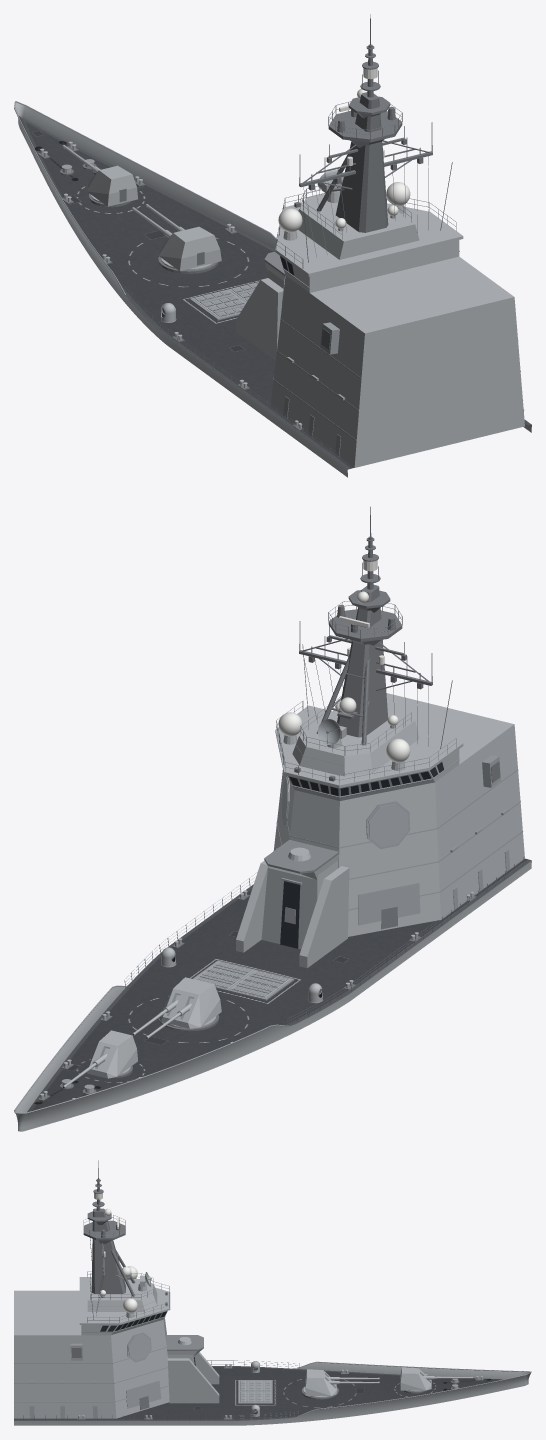
File: destroyer_v13.glb
The picture shows the model from 3 angles, top to bottom: view 1: azimuth 30°, elevation 25°; view 2: azimuth 150°, elevation 25°; view 3: azimuth 270°, elevation 25°; orthographic projection. The views are drawn at different scales.
Visible parts, largest first — view 1: Deckhouse_Hull_Grey, Deck_Painted, Bridge_Hull_Grey, Mast_Mast_Dark, Hull_Hull_Grey_2S_smooth, DeckGunTurretGeo_Hull_Grey, FrontGunTurretGeo_Hull_Grey, Deckhouse_Seam_Grey, Radomes_Radome_White_smooth, Railings_Mast_Dark, Hull_Seam_Grey, Lifelines_Mast_Dark; view 2: Deckhouse_Hull_Grey, Deck_Painted, Bridge_Hull_Grey, Mast_Mast_Dark, Hull_Hull_Grey_2S_smooth, Deckhouse_Seam_Grey, DeckGunTurretGeo_Hull_Grey, FrontGunTurretGeo_Hull_Grey, SPY_Panels_SPY_Panel, Radomes_Radome_White_smooth, Railings_Mast_Dark, Deckhouse_Deck_Grey (+4 smaller); view 3: Deckhouse_Hull_Grey, Deck_Painted, Hull_Hull_Grey_2S_smooth, Bridge_Hull_Grey, Mast_Mast_Dark, Deckhouse_Seam_Grey, DeckGunTurretGeo_Hull_Grey, Hull_Seam_Grey, FrontGunTurretGeo_Hull_Grey, Railings_Mast_Dark, Deckhouse_Deck_Grey, SPY_Panels_SPY_Panel (+3 smaller).
Boxes of the visible parts, x1,y1,x2,y2 form: Deckhouse_Hull_Grey: [236, 256, 524, 467]; Deck_Painted: [18, 115, 531, 469]; Bridge_Hull_Grey: [275, 193, 463, 292]; Mast_Mast_Dark: [299, 14, 452, 262]; Hull_Hull_Grey_2S_smooth: [15, 102, 531, 477]; DeckGunTurretGeo_Hull_Grey: [159, 226, 221, 271]; FrontGunTurretGeo_Hull_Grey: [86, 165, 137, 206]; Deckhouse_Seam_Grey: [273, 318, 523, 456]; Radomes_Radome_White_smooth: [278, 88, 410, 232]; Railings_Mast_Dark: [276, 101, 456, 268]; Hull_Seam_Grey: [14, 101, 277, 295]; Lifelines_Mast_Dark: [124, 286, 523, 463]; Deckhouse_Hull_Grey: [236, 693, 524, 968]; Deck_Painted: [27, 858, 531, 1112]; Bridge_Hull_Grey: [275, 705, 463, 800]; Mast_Mast_Dark: [299, 506, 452, 748]; Hull_Hull_Grey_2S_smooth: [15, 860, 531, 1131]; Deckhouse_Seam_Grey: [276, 755, 523, 925]; DeckGunTurretGeo_Hull_Grey: [159, 977, 221, 1028]; FrontGunTurretGeo_Hull_Grey: [87, 1030, 137, 1078]; SPY_Panels_SPY_Panel: [282, 777, 408, 846]; Radomes_Radome_White_smooth: [278, 591, 410, 762]; Railings_Mast_Dark: [276, 601, 456, 784]; Deckhouse_Deck_Grey: [264, 840, 339, 873]; Deckhouse_Hull_Grey: [14, 1290, 219, 1418]; Deck_Painted: [14, 1366, 503, 1420]; Hull_Hull_Grey_2S_smooth: [14, 1362, 530, 1425]; Bridge_Hull_Grey: [79, 1277, 170, 1335]; Mast_Mast_Dark: [83, 1160, 135, 1319]; Deckhouse_Seam_Grey: [14, 1332, 195, 1418]; DeckGunTurretGeo_Hull_Grey: [305, 1369, 336, 1395]; Hull_Seam_Grey: [297, 1361, 531, 1416]; FrontGunTurretGeo_Hull_Grey: [400, 1367, 431, 1390]; Railings_Mast_Dark: [83, 1215, 169, 1322]; Deckhouse_Deck_Grey: [167, 1335, 203, 1350]; SPY_Panels_SPY_Panel: [128, 1334, 150, 1360].
Bounding box in the file's own units: 21.25 × 42.9 × 84.53.
Materials: 10 (1 with a texture image).
